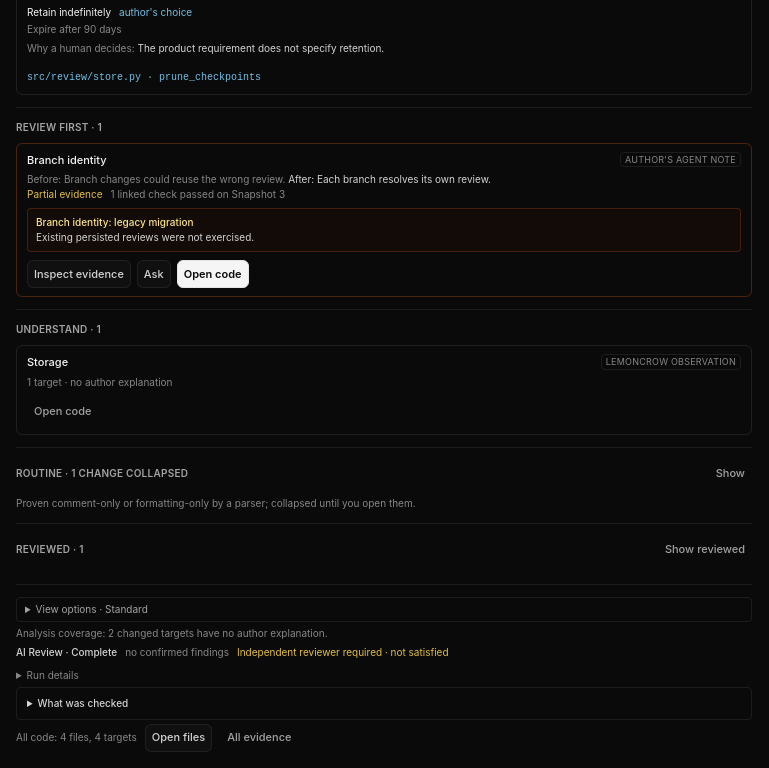
Test: ReviewBrief AI review › labels an unreported default model and an unsatisfied requirement visibly, never as independent
The image size is (769, 768).
(page scrolled)
Expected: the text with test id "ai-independence-label" reads "Independent reviewer required · not satisfied", left=237, top=646, right=449, bottom=658
Click the heading "Run details": {"x": 53, "y": 674} left=27, top=668, right=79, bottom=680
(page scrolled)
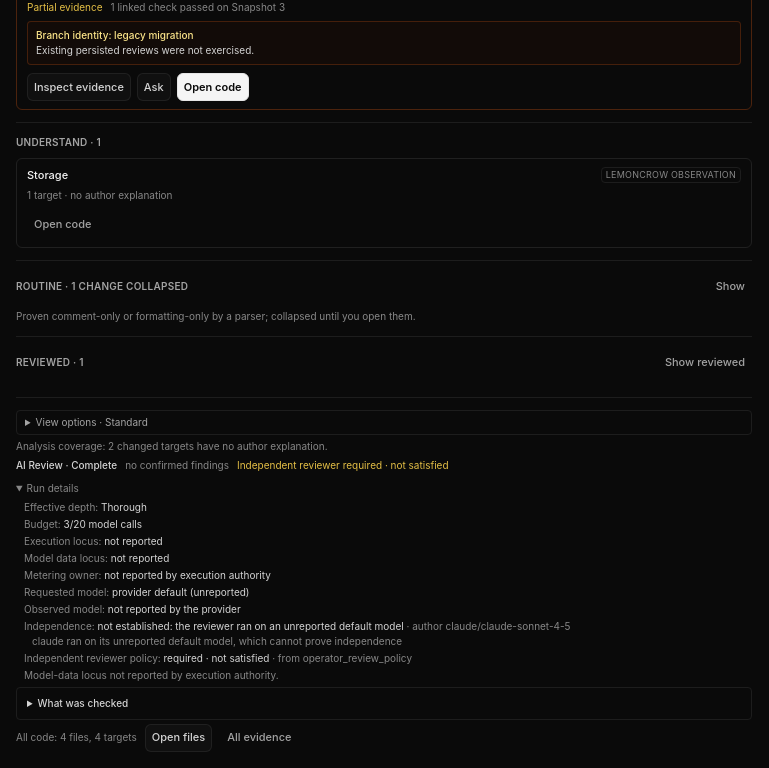
Now the element with test id "ai-requested-model" reads "Requested model: provider default (unreported)", box left=24, top=586, right=250, bottom=598
Now the element with test id "ai-observed-model" reads "Observed model: not reported by the provider", box left=24, top=602, right=241, bottom=614
Now the element with test id "ai-independence" shows "unreported default model, which cannot prove independence", box left=32, top=634, right=402, bottom=646
